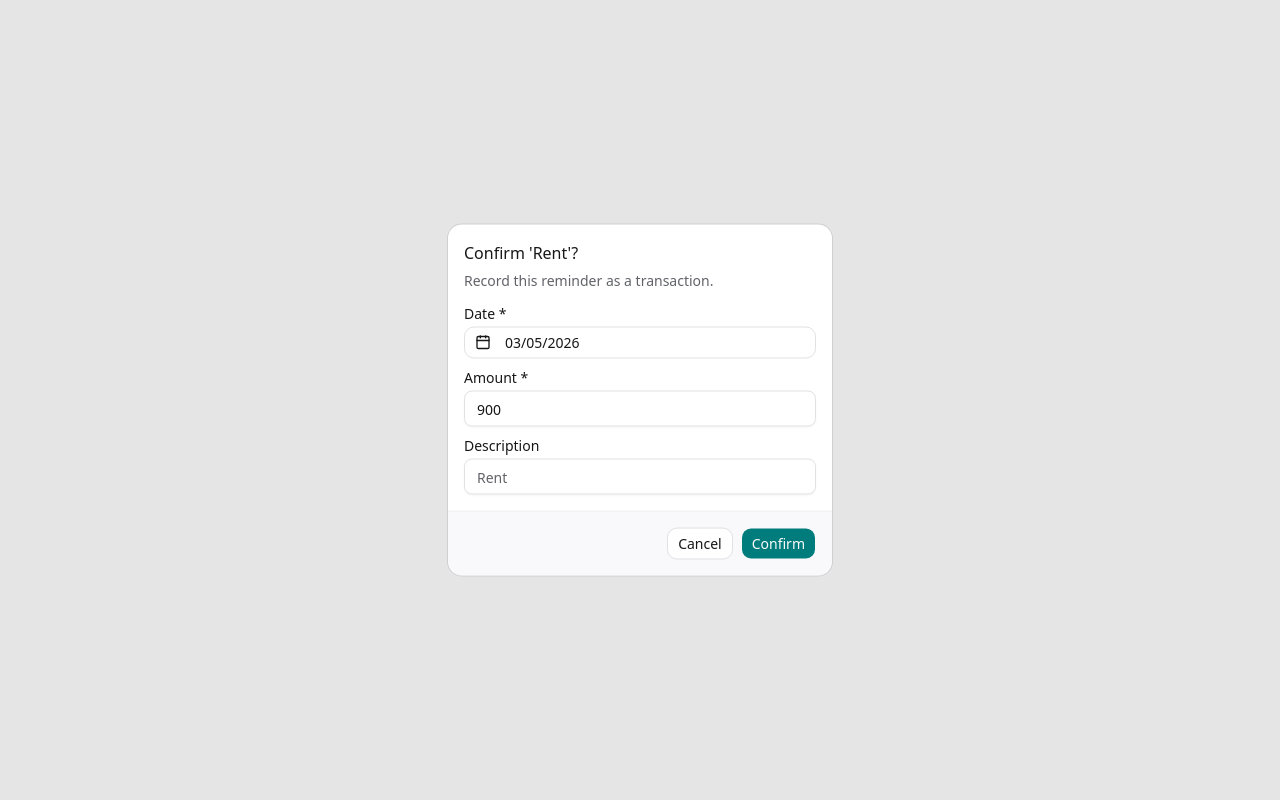
Test: RecurringConfirmDialog › shows inline error on DATE_BEFORE_OPENING_BALANCE
Click the button "Confirm": (778, 544) [741,528,816,560]
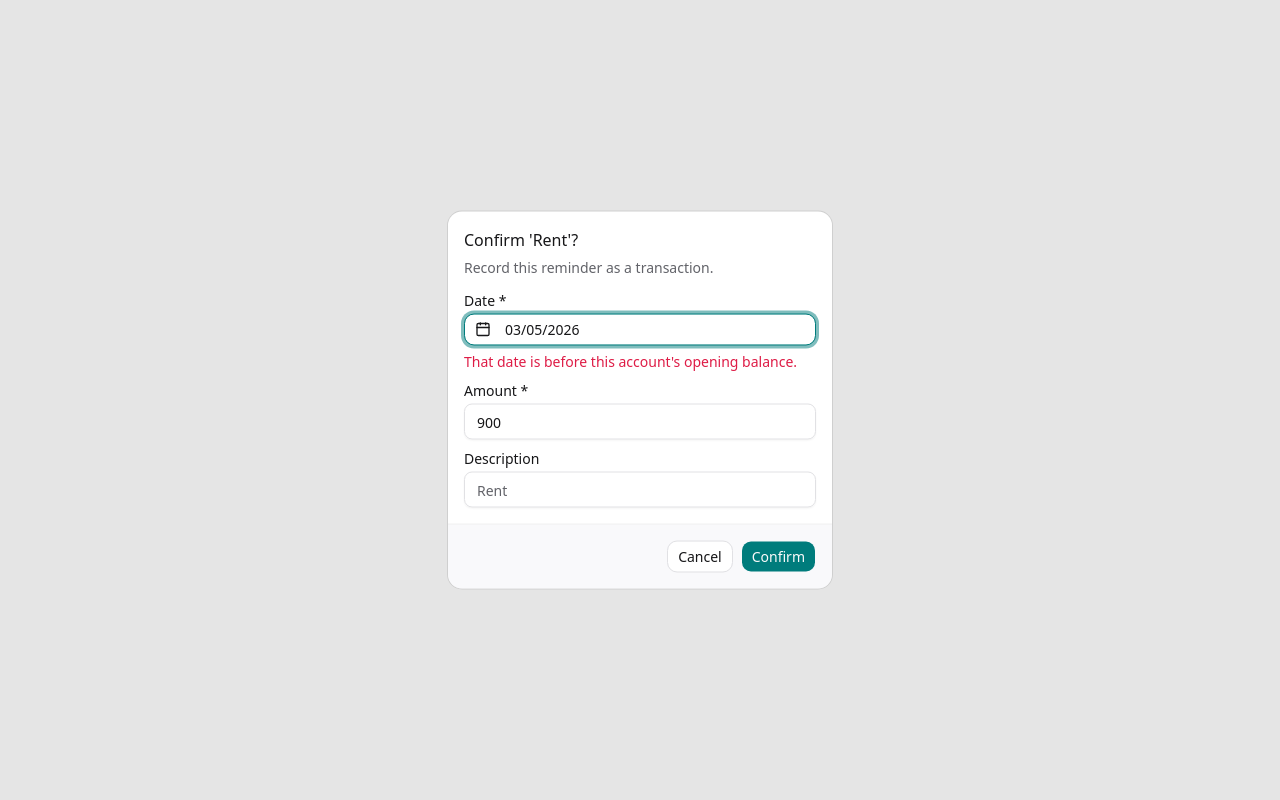
Expected: the text "That date is before this account's opening balance." is shown, [464,352,816,372]
